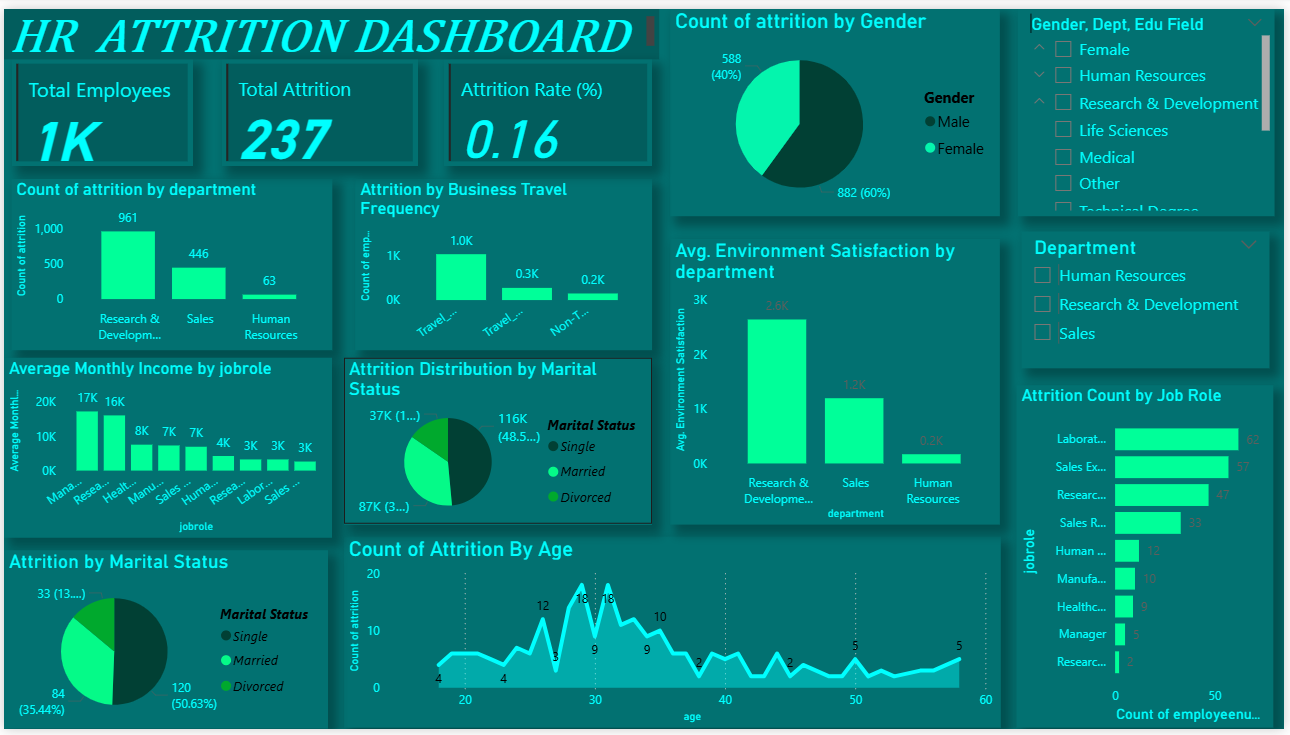

Layout of this report page (visuals, bound fields, positions):
{"tool":"powerbi","page":{"name":"Page 1","canvas":[1280,720],"ordinal":0},"visuals":[{"type":"cardVisual","fields":{"Data":["WA_Fn-UseC-HR-Employee-Attrition_cleaned (4).Total Employees"]},"box":[7.1,50,181.3,107],"z":0},{"type":"clusteredColumnChart","fields":{"Category":["WA_Fn-UseC-HR-Employee-Attrition_cleaned (4).department"],"Y":["CountNonNull(WA_Fn-UseC-HR-Employee-Attrition_cleaned (4).attrition)"]},"box":[7.1,169.8,321.1,171.3],"z":1000},{"type":"pieChart","fields":{"Category":["WA_Fn-UseC-HR-Employee-Attrition_cleaned (4).gender"],"Y":["CountNonNull(WA_Fn-UseC-HR-Employee-Attrition_cleaned (4).attrition)"]},"box":[666.6,0,329.7,207],"z":2000},{"type":"lineChart","title":"Count of Attrition By Age","fields":{"Category":["WA_Fn-UseC-HR-Employee-Attrition_cleaned (4).age"],"Y":["CountNonNull(WA_Fn-UseC-HR-Employee-Attrition_cleaned (4).attrition)"]},"box":[339.7,528.1,656.6,191.3],"z":3000},{"type":"clusteredColumnChart","fields":{"Category":["WA_Fn-UseC-HR-Employee-Attrition_cleaned (4).jobrole"],"Y":["WA_Fn-UseC-HR-Employee-Attrition_cleaned (4).Average Monthly Income"]},"box":[0,348.3,328.3,179.8],"z":4000},{"type":"slicer","fields":{"Values":["WA_Fn-UseC-HR-Employee-Attrition_cleaned (4).gender","WA_Fn-UseC-HR-Employee-Attrition_cleaned (4).department","WA_Fn-UseC-HR-Employee-Attrition_cleaned (4).educationfield"]},"box":[1013.4,0,256.9,207],"z":5000},{"type":"textbox","box":[0,0,655.6,50.4],"z":6000},{"type":"clusteredColumnChart","fields":{"Category":["WA_Fn-UseC-HR-Employee-Attrition_cleaned (4).department"],"Y":["Sum(WA_Fn-UseC-HR-Employee-Attrition_cleaned (4).environmentsatisfaction)"]},"box":[666.6,229.8,329.7,285.5],"z":7000},{"type":"slicer","fields":{"Values":["WA_Fn-UseC-HR-Employee-Attrition_cleaned (4).department"]},"box":[1017.7,222.7,248.4,137],"z":8000},{"type":"clusteredBarChart","title":"Attrition Count by Job Role","fields":{"Category":["WA_Fn-UseC-HR-Employee-Attrition_cleaned (4).jobrole"],"Y":["CountNonNull(WA_Fn-UseC-HR-Employee-Attrition_cleaned (4).employeenumber)"]},"box":[1012,376.8,256.9,342.6],"z":9000},{"type":"pieChart","title":"Attrition by Marital Status","fields":{"Category":["WA_Fn-UseC-HR-Employee-Attrition_cleaned (4).maritalstatus"],"Y":["CountNonNull(WA_Fn-UseC-HR-Employee-Attrition_cleaned (4).age)"]},"box":[0,540.9,324,178.4],"z":10000},{"type":"clusteredColumnChart","title":"Attrition by Business Travel Frequency","fields":{"Category":["WA_Fn-UseC-HR-Employee-Attrition_cleaned (4).businesstravel"],"Y":["CountNonNull(WA_Fn-UseC-HR-Employee-Attrition_cleaned (4).employeenumber)"]},"box":[351.1,169.8,296.9,171.3],"z":11000},{"type":"pieChart","title":"Attrition Distribution by Marital Status","fields":{"Category":["WA_Fn-UseC-HR-Employee-Attrition_cleaned (4).maritalstatus"],"Y":["Sum(WA_Fn-UseC-HR-Employee-Attrition_cleaned (4).employeenumber)"]},"box":[339.7,348.3,308.3,167],"z":12000},{"type":"cardVisual","fields":{"Data":["WA_Fn-UseC-HR-Employee-Attrition_cleaned (4).Total Attrition"]},"box":[216.9,50,197,107],"z":13000},{"type":"cardVisual","fields":{"Data":["WA_Fn-UseC-HR-Employee-Attrition_cleaned (4).Attrition Rate (%)"]},"box":[439.6,50,208.4,107],"z":14000}]}

Visuals, with their boxes in screenshot pixels (x1, y1, x2, y2), scaled from the page's 1280x720 canvas onto the 1290x735 screenshot:
cardVisual - WA_Fn-UseC-HR-Employee-Attrition_cleaned (4).Total Employees: (left=7, top=51, right=190, bottom=160)
clusteredColumnChart - WA_Fn-UseC-HR-Employee-Attrition_cleaned (4).department x CountNonNull(WA_Fn-UseC-HR-Employee-Attrition_cleaned (4).attrition): (left=7, top=173, right=331, bottom=348)
pieChart - WA_Fn-UseC-HR-Employee-Attrition_cleaned (4).gender x CountNonNull(WA_Fn-UseC-HR-Employee-Attrition_cleaned (4).attrition): (left=672, top=0, right=1004, bottom=211)
"Count of Attrition By Age" lineChart: (left=342, top=539, right=1004, bottom=734)
clusteredColumnChart - WA_Fn-UseC-HR-Employee-Attrition_cleaned (4).jobrole x WA_Fn-UseC-HR-Employee-Attrition_cleaned (4).Average Monthly Income: (left=0, top=356, right=331, bottom=539)
slicer - WA_Fn-UseC-HR-Employee-Attrition_cleaned (4).gender x WA_Fn-UseC-HR-Employee-Attrition_cleaned (4).department: (left=1021, top=0, right=1280, bottom=211)
textbox: (left=0, top=0, right=661, bottom=51)
clusteredColumnChart - WA_Fn-UseC-HR-Employee-Attrition_cleaned (4).department x Sum(WA_Fn-UseC-HR-Employee-Attrition_cleaned (4).environmentsatisfaction): (left=672, top=235, right=1004, bottom=526)
slicer - WA_Fn-UseC-HR-Employee-Attrition_cleaned (4).department: (left=1026, top=227, right=1276, bottom=367)
"Attrition Count by Job Role" clusteredBarChart: (left=1020, top=385, right=1279, bottom=734)
"Attrition by Marital Status" pieChart: (left=0, top=552, right=327, bottom=734)
"Attrition by Business Travel Frequency" clusteredColumnChart: (left=354, top=173, right=653, bottom=348)
"Attrition Distribution by Marital Status" pieChart: (left=342, top=356, right=653, bottom=526)
cardVisual - WA_Fn-UseC-HR-Employee-Attrition_cleaned (4).Total Attrition: (left=219, top=51, right=417, bottom=160)
cardVisual - WA_Fn-UseC-HR-Employee-Attrition_cleaned (4).Attrition Rate (%): (left=443, top=51, right=653, bottom=160)
